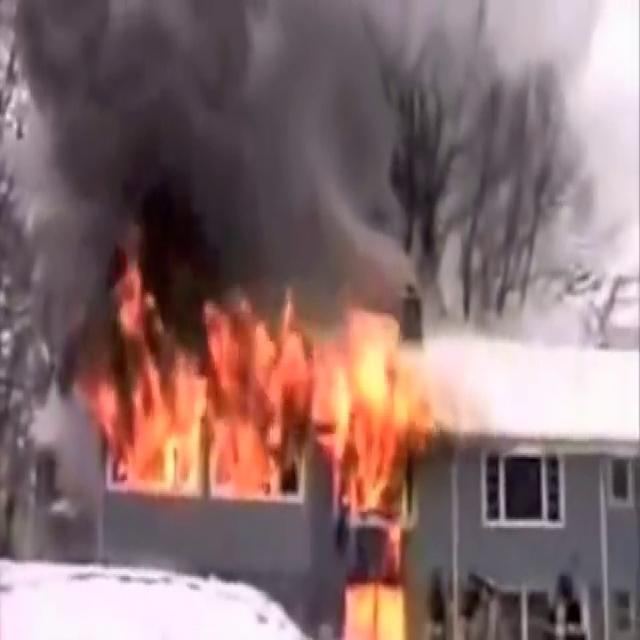Fire: (84, 266, 441, 528)
Smoke: (6, 0, 637, 313)
